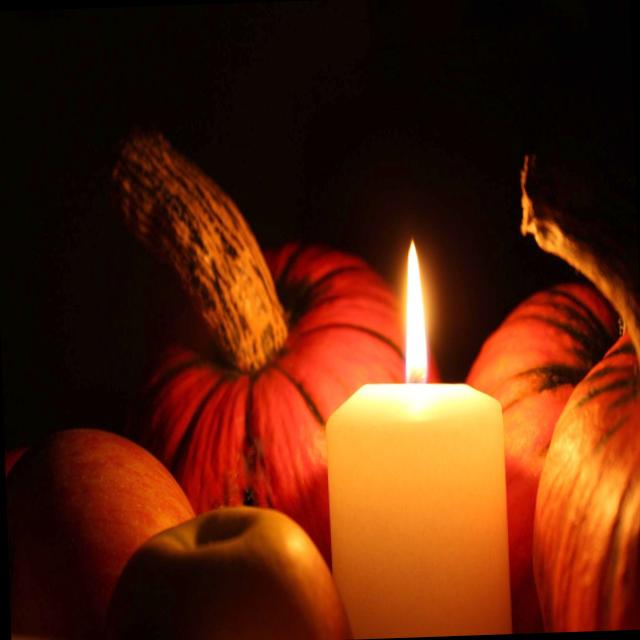Fire_Save: (318, 232, 512, 637)
